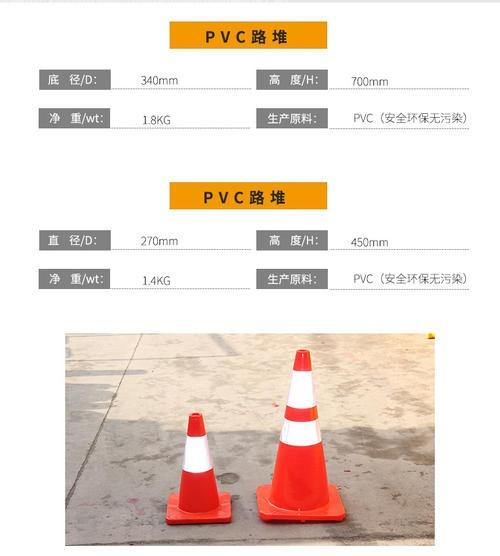cone_barrel: (252, 347, 345, 524), (163, 414, 231, 525)
